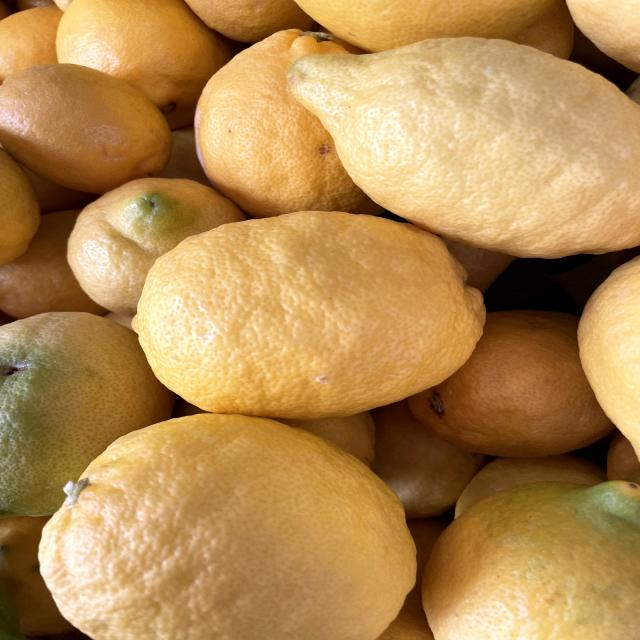lemon: (25, 402, 428, 640), (121, 206, 527, 426), (285, 33, 640, 261)
